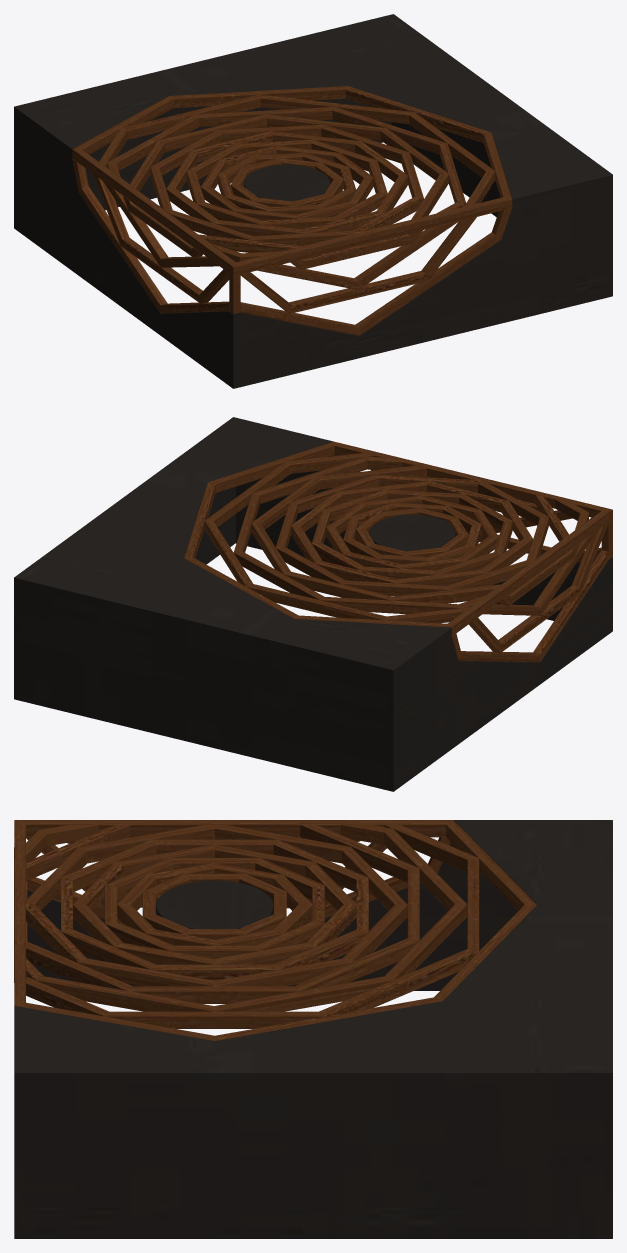
The model's file is modern_coffee_table_02.glb.
3 renders of one model, top to bottom at view 1: azimuth 30°, elevation 25°; view 2: azimuth 150°, elevation 25°; view 3: azimuth 270°, elevation 25°, orthographic. The views are drawn at different scales.
Visible parts, largest first — view 1: modern_coffee_table_02; view 2: modern_coffee_table_02; view 3: modern_coffee_table_02.
Boxes of the visible parts, x1,y1,x2,y2 form: modern_coffee_table_02: (14, 14, 612, 388); modern_coffee_table_02: (14, 417, 612, 791); modern_coffee_table_02: (14, 820, 612, 1238).
Bounding box in the file's own units: 1.2 × 0.3692 × 1.2.
2 materials, 2 textured.
